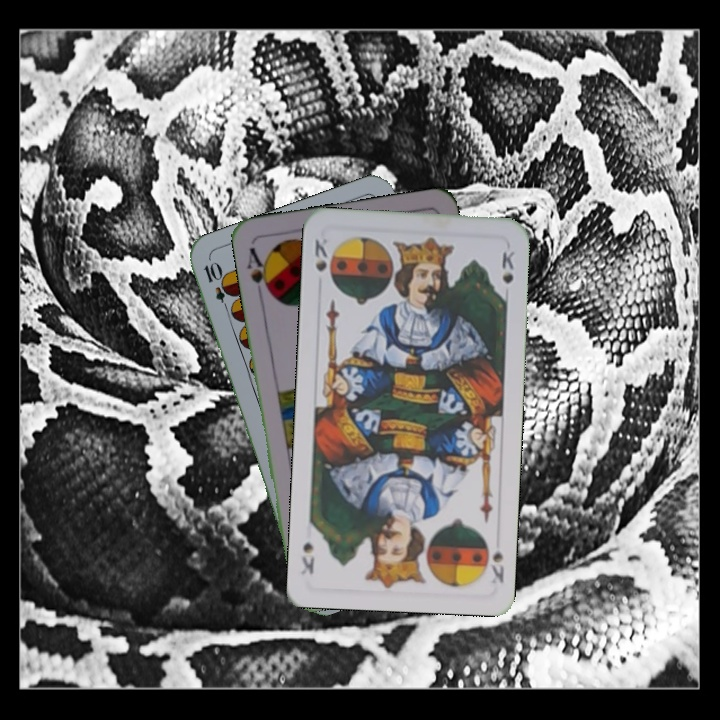E10: (199, 258, 234, 316)
SA: (243, 243, 275, 300)
SK: (480, 535, 506, 586), (311, 232, 331, 274)
